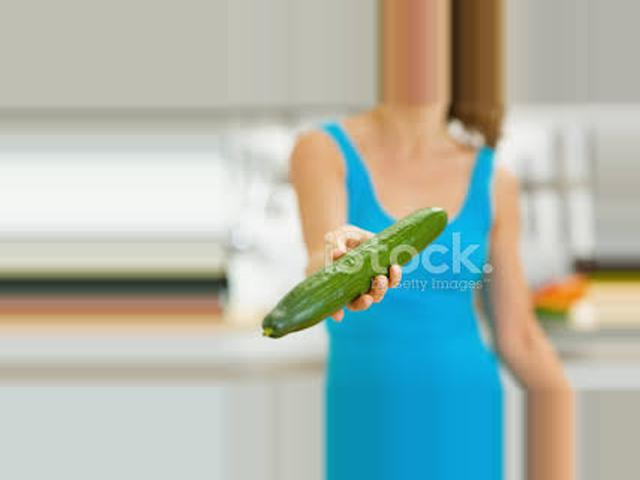cucumber: (262, 207, 448, 339)
